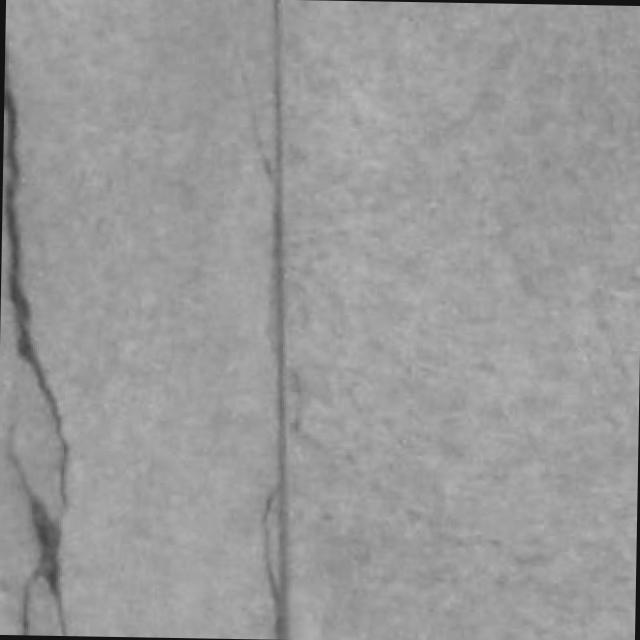crack: (3, 43, 66, 510), (262, 0, 288, 639), (7, 419, 65, 635)
